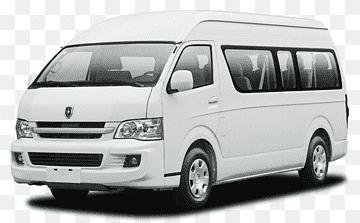van: (13, 4, 355, 199)
